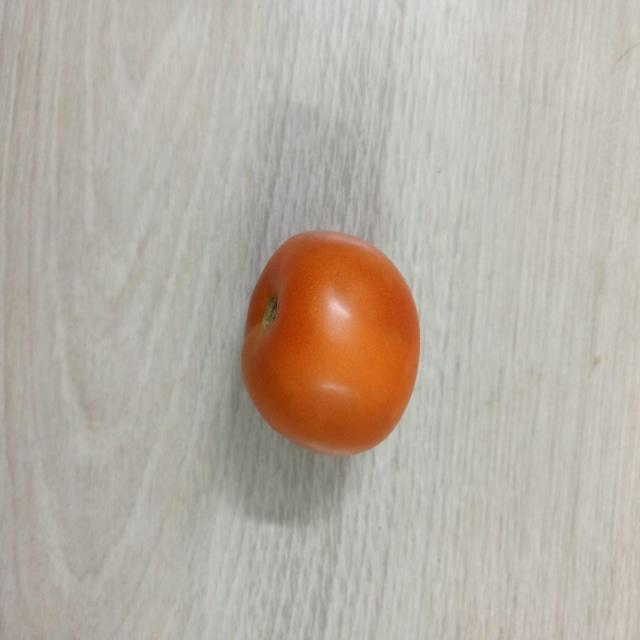Tomato: (238, 231, 424, 458)
